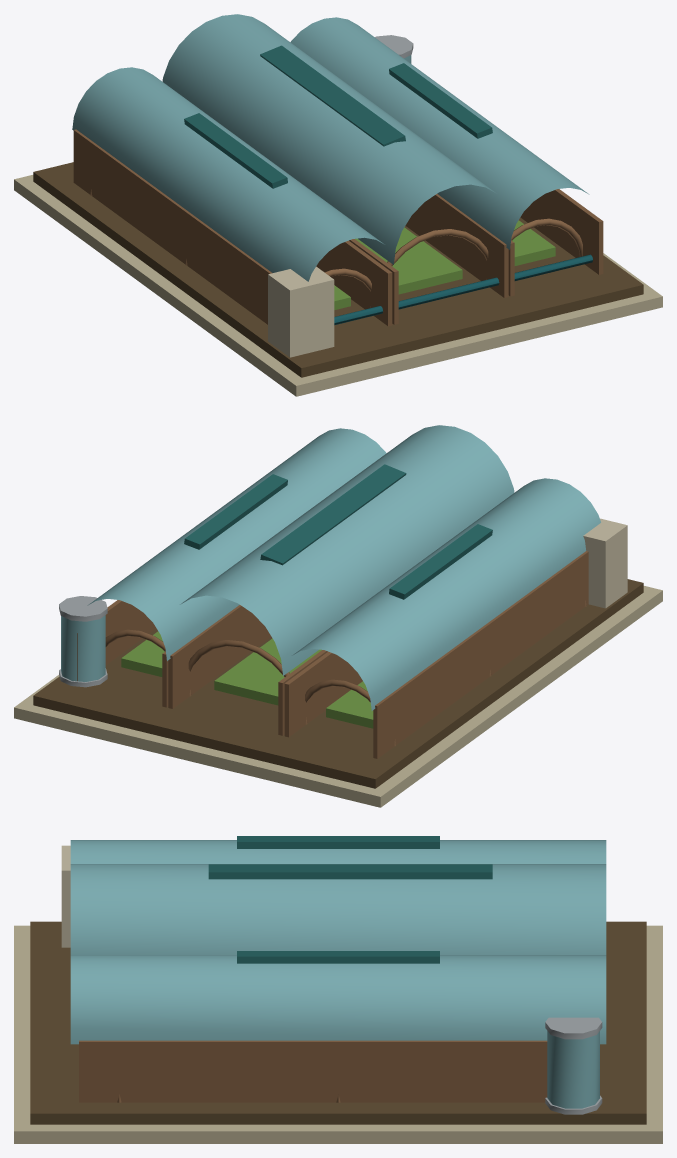
The model's file is b05-canopy-greenhouse-v2-lod0.glb.
The picture shows the model from 3 angles, top to bottom: view 1: azimuth 30°, elevation 25°; view 2: azimuth 150°, elevation 25°; view 3: azimuth 270°, elevation 25°; orthographic projection. The views are drawn at different scales.
Visible parts, largest first — view 1: MESH_B05_CANOPY_GREENHOUSE; view 2: MESH_B05_CANOPY_GREENHOUSE; view 3: MESH_B05_CANOPY_GREENHOUSE.
Boxes of the visible parts, x1=… form: MESH_B05_CANOPY_GREENHOUSE: x1=14, y1=14, x2=662, y2=396; MESH_B05_CANOPY_GREENHOUSE: x1=14, y1=425, x2=662, y2=807; MESH_B05_CANOPY_GREENHOUSE: x1=14, y1=836, x2=662, y2=1143.
Bounding box in the file's own units: 12 × 4.75 × 16.
